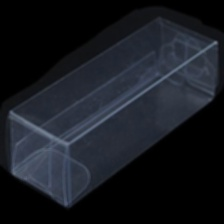plastic_box: (0, 9, 224, 213)
